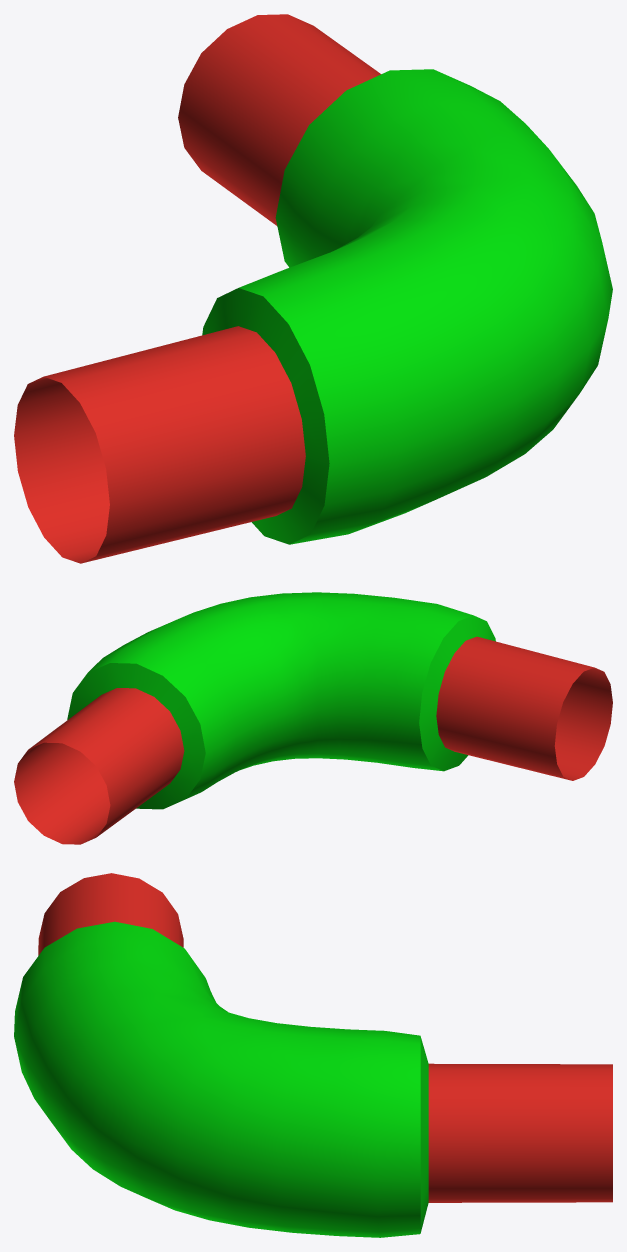
The model's file is PipeCorner.fbx.
3 views of the same model, one above another, from view 1: azimuth 30°, elevation 25°; view 2: azimuth 150°, elevation 25°; view 3: azimuth 270°, elevation 25° (orthographic). The views are drawn at different scales.
Visible parts, largest first — view 1: PipeCurve; view 2: PipeCurve; view 3: PipeCurve.
Part boxes in pixels (bbox=[...]): PipeCurve: bbox=[14, 14, 612, 563]; PipeCurve: bbox=[14, 592, 612, 844]; PipeCurve: bbox=[14, 873, 612, 1237].
Bounding box in the file's own units: 146 × 53.86 × 154.
